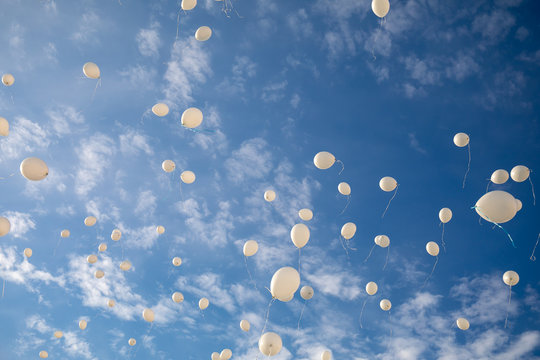Balloon: (474, 190, 516, 224), (270, 267, 300, 298), (20, 155, 48, 181), (259, 332, 281, 356), (180, 107, 202, 129), (290, 224, 310, 248), (313, 151, 336, 169), (510, 164, 529, 183), (371, 1, 390, 18), (83, 62, 100, 80), (194, 26, 212, 42), (490, 168, 508, 184), (502, 270, 519, 286), (379, 177, 397, 192), (453, 132, 469, 147), (341, 222, 356, 238), (300, 284, 315, 300), (243, 240, 258, 256), (425, 240, 439, 257), (438, 207, 452, 223), (152, 104, 170, 116), (180, 171, 196, 184), (365, 281, 378, 296), (298, 208, 313, 221), (456, 317, 470, 330), (338, 182, 352, 195), (162, 159, 175, 173), (142, 308, 155, 322), (1, 218, 10, 237), (182, 1, 199, 11), (1, 116, 9, 136), (172, 291, 184, 304), (2, 74, 16, 85), (378, 235, 390, 247), (264, 190, 276, 202), (220, 348, 232, 360), (198, 297, 209, 310), (380, 299, 392, 310), (240, 320, 250, 332), (84, 216, 96, 226), (78, 318, 87, 331), (172, 256, 182, 267), (111, 229, 120, 241), (23, 248, 33, 257), (98, 242, 107, 252), (87, 254, 97, 263), (95, 269, 105, 278), (39, 350, 49, 359), (211, 351, 220, 360), (61, 229, 70, 238), (128, 337, 136, 347), (108, 300, 115, 307)
